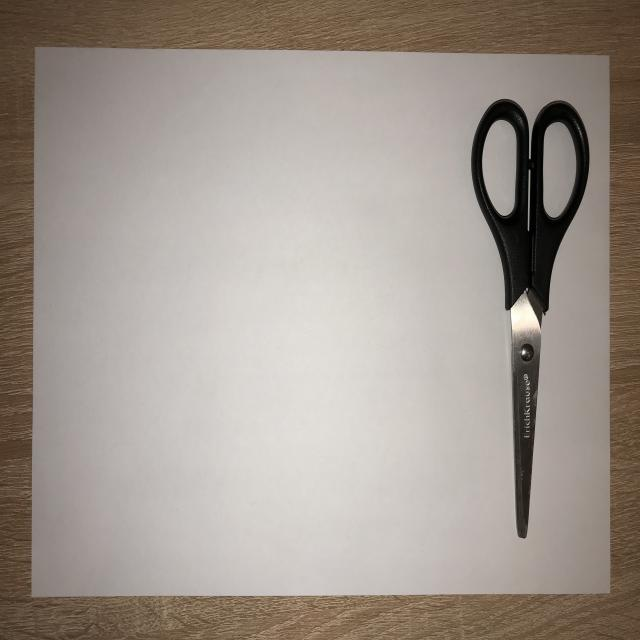scissors: (464, 92, 594, 545)
